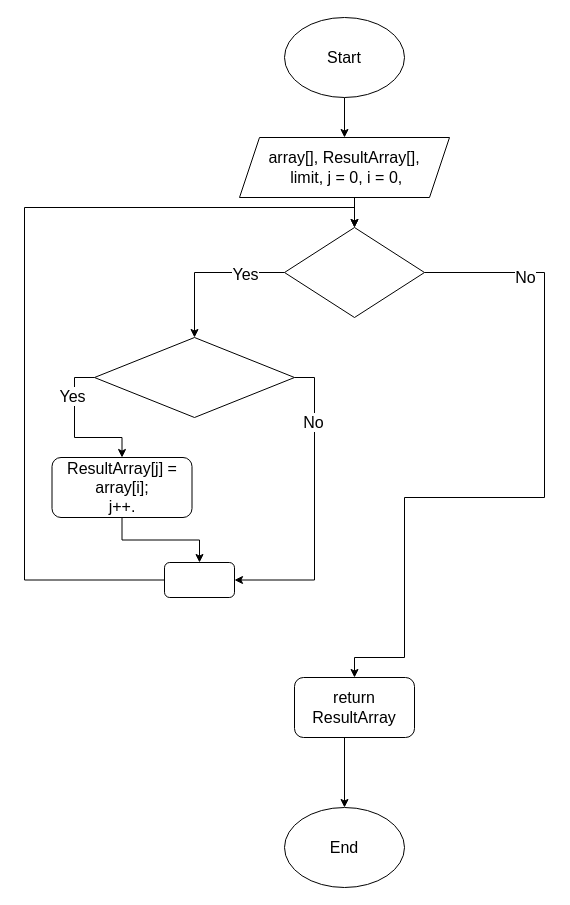
The diagram is 570 pixels wide and 905 high, and some of its shapes have lost their labels. The box of each missing label's shape, as (x1, y1, x2, y2) in pixels:
array[i].Lenght <= limit: (94, 336, 294, 418)
i ++: (164, 562, 234, 598)
i < array.Lenght: (284, 226, 424, 318)
